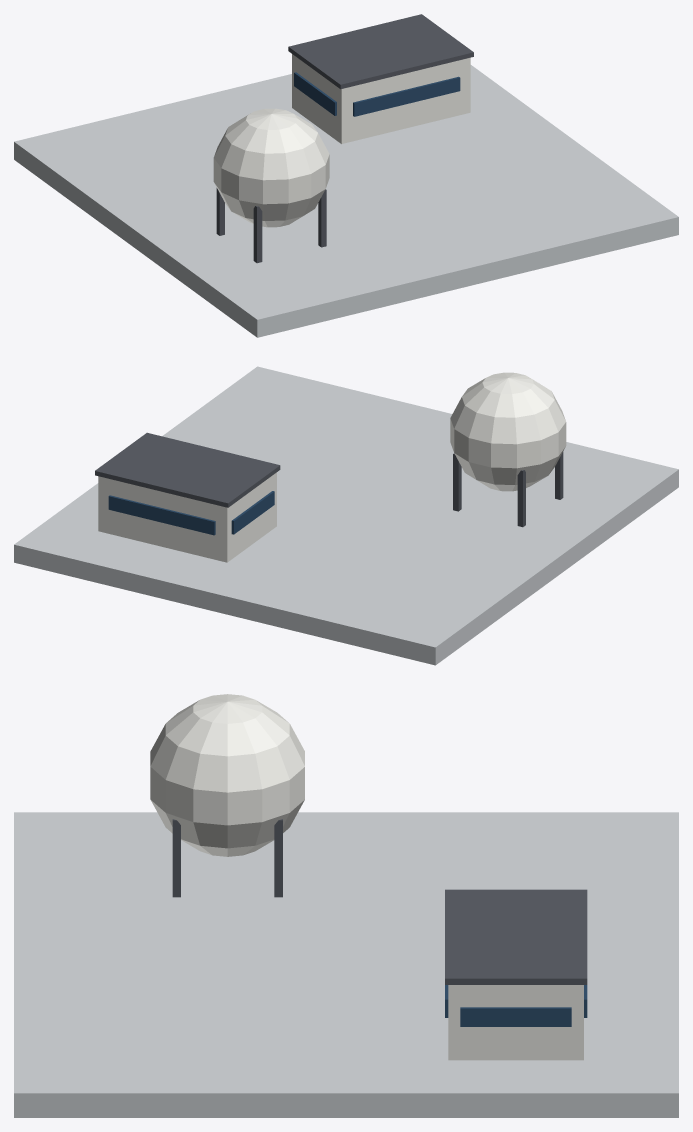
Rendered from gas_special_1.glb.
3 views of the same model, one above another, from view 1: azimuth 30°, elevation 25°; view 2: azimuth 150°, elevation 25°; view 3: azimuth 270°, elevation 25° (orthographic). The views are drawn at different scales.
Parts seen in each view (by area): view 1: gas_special_1; view 2: gas_special_1; view 3: gas_special_1.
Part boxes in pixels (x1,y1,x2,y2): gas_special_1: (14, 14, 678, 337); gas_special_1: (14, 366, 678, 665); gas_special_1: (14, 694, 678, 1117).
Bounding box in the file's own units: 1.96 × 0.64 × 1.96.
